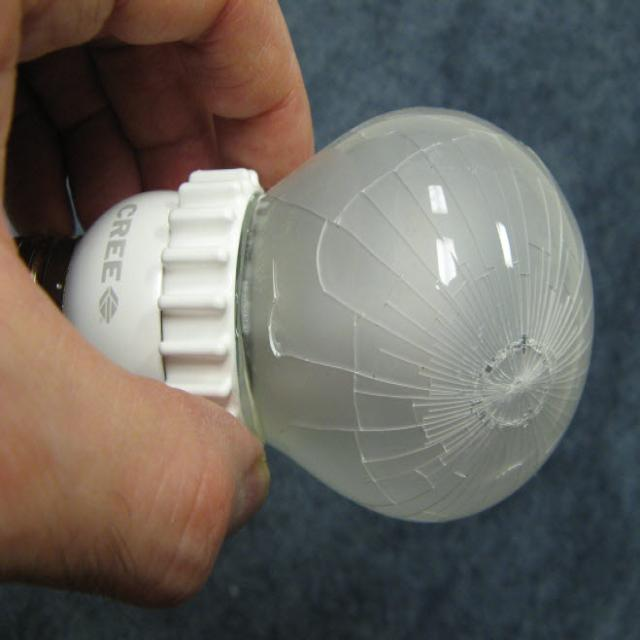bulb: (68, 80, 616, 510)
